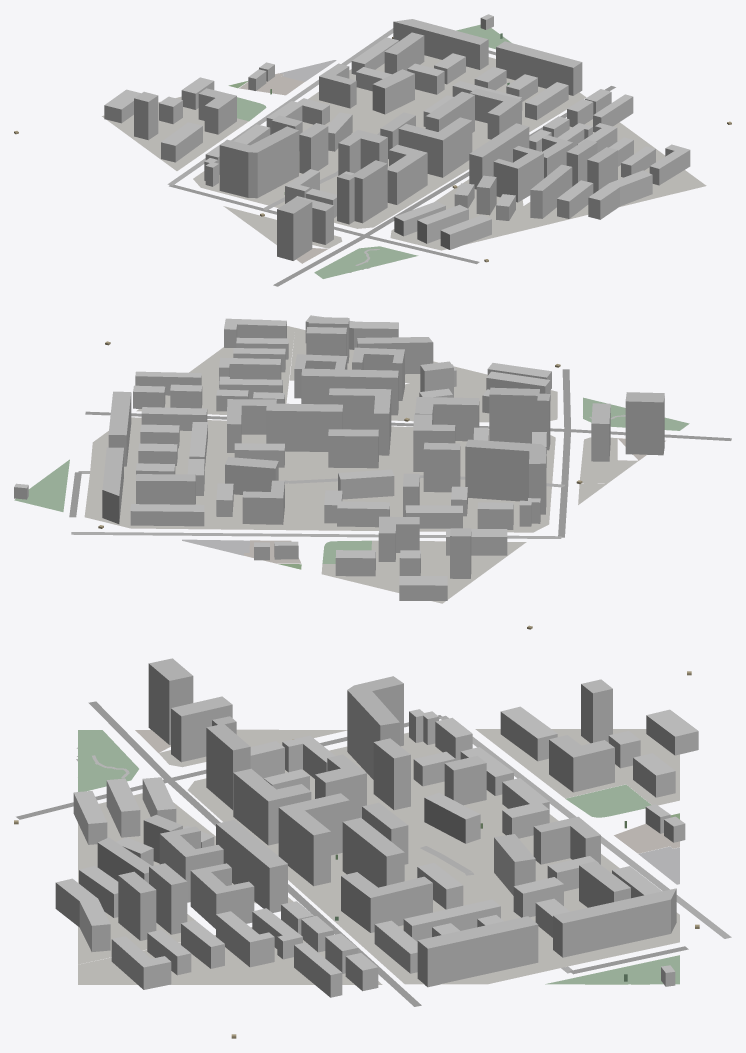
The picture shows the model from 3 angles, top to bottom: view 1: azimuth 30°, elevation 25°; view 2: azimuth 150°, elevation 25°; view 3: azimuth 270°, elevation 25°; orthographic projection. The views are drawn at different scales.
Size of the model in its own units: 715 by 59.4 by 596.
